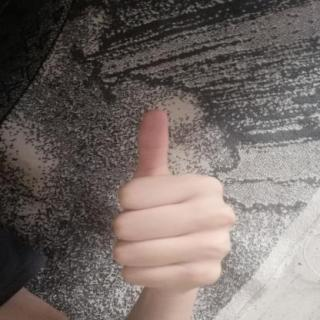ALIF: (98, 104, 244, 296)
